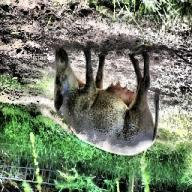boar: (52, 47, 159, 157)
